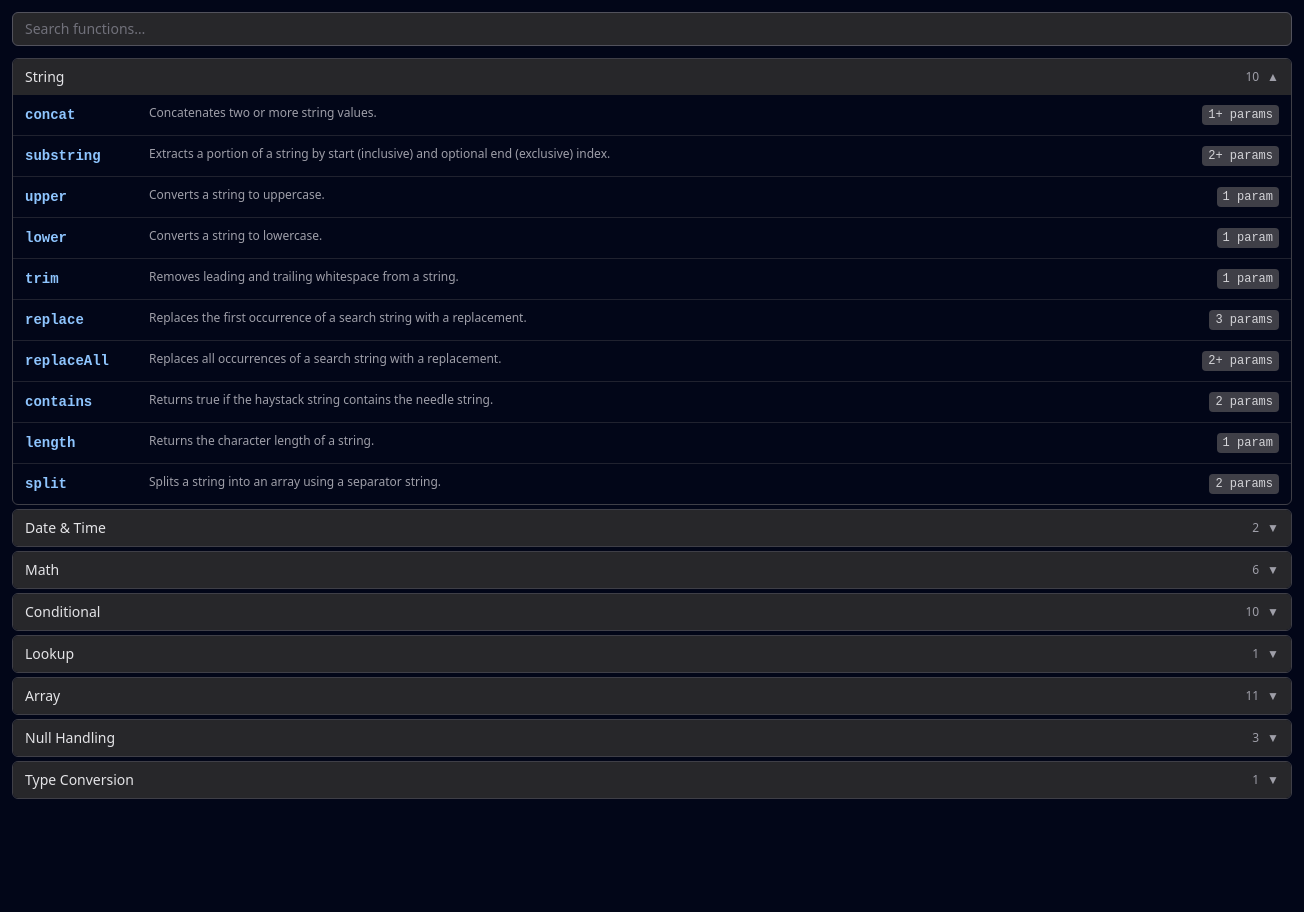
Test: TransformPicker › shows no-results message when search matches nothing
Step 1. Type "zzznomatch" into the field named "Search transform functions" → [652, 29], box 12,12 -> 1292,46
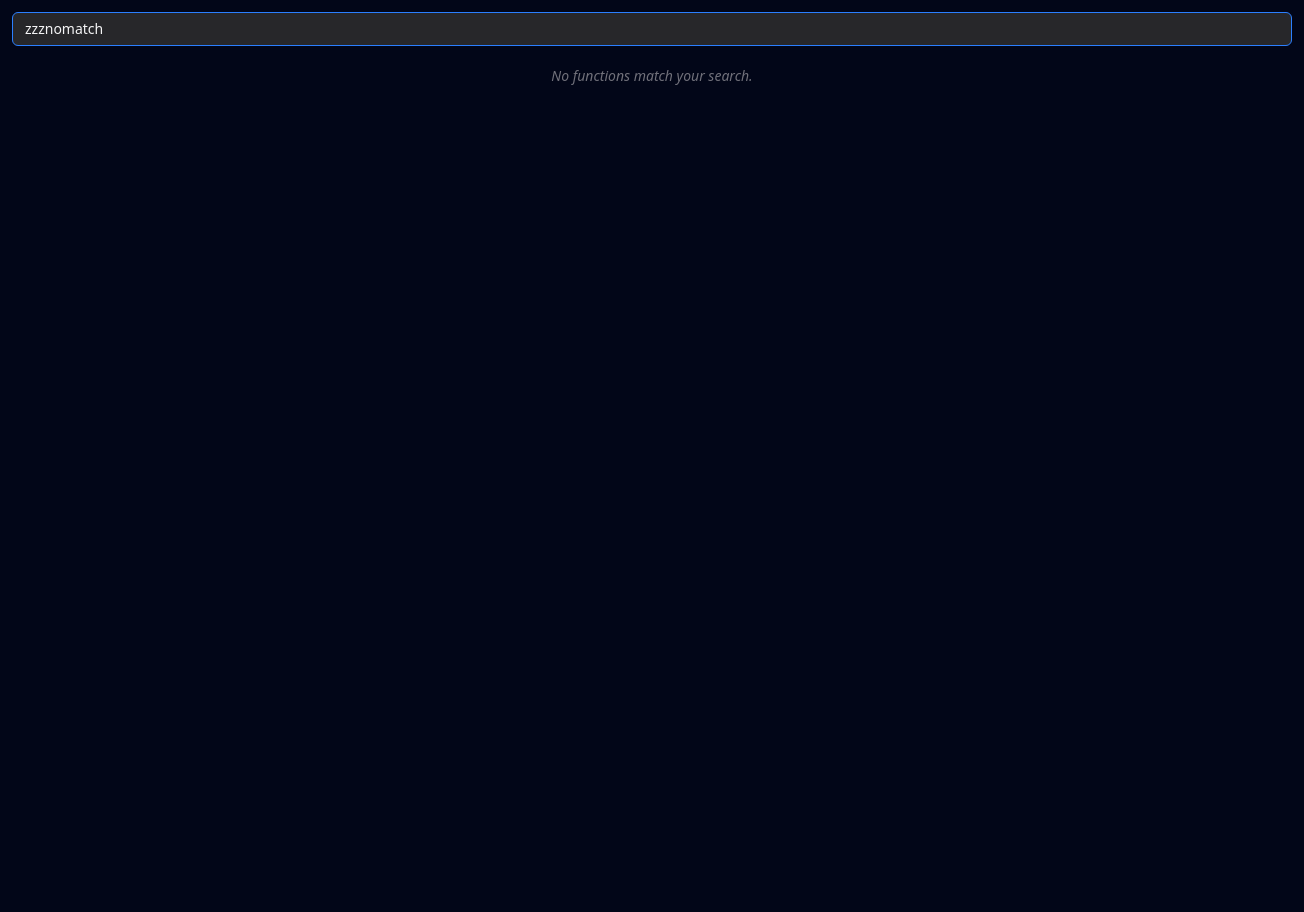
Check: the text "No functions match your search." is shown, box 551,66 -> 753,85
